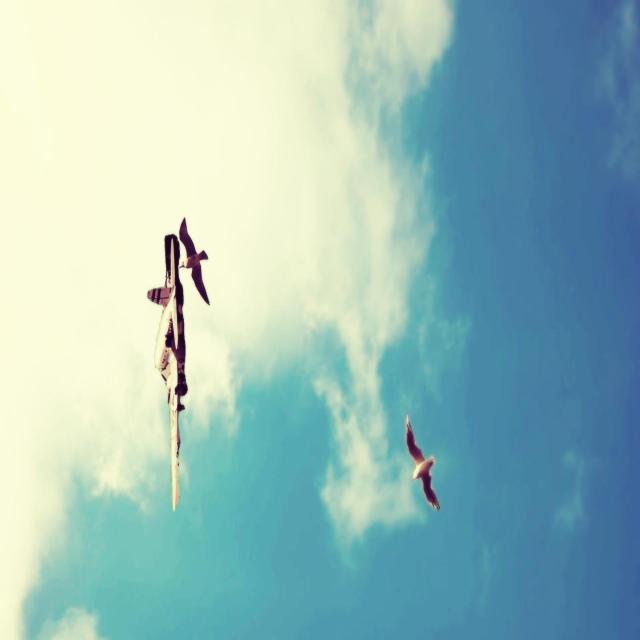airplane: (146, 233, 188, 511)
